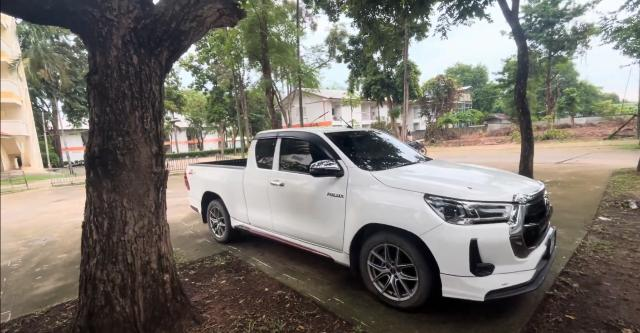pickup-truck: (183, 126, 556, 307)
